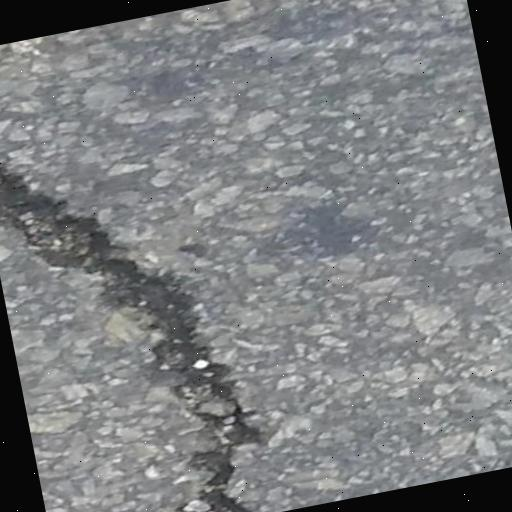spalling: (0, 166, 273, 512)
